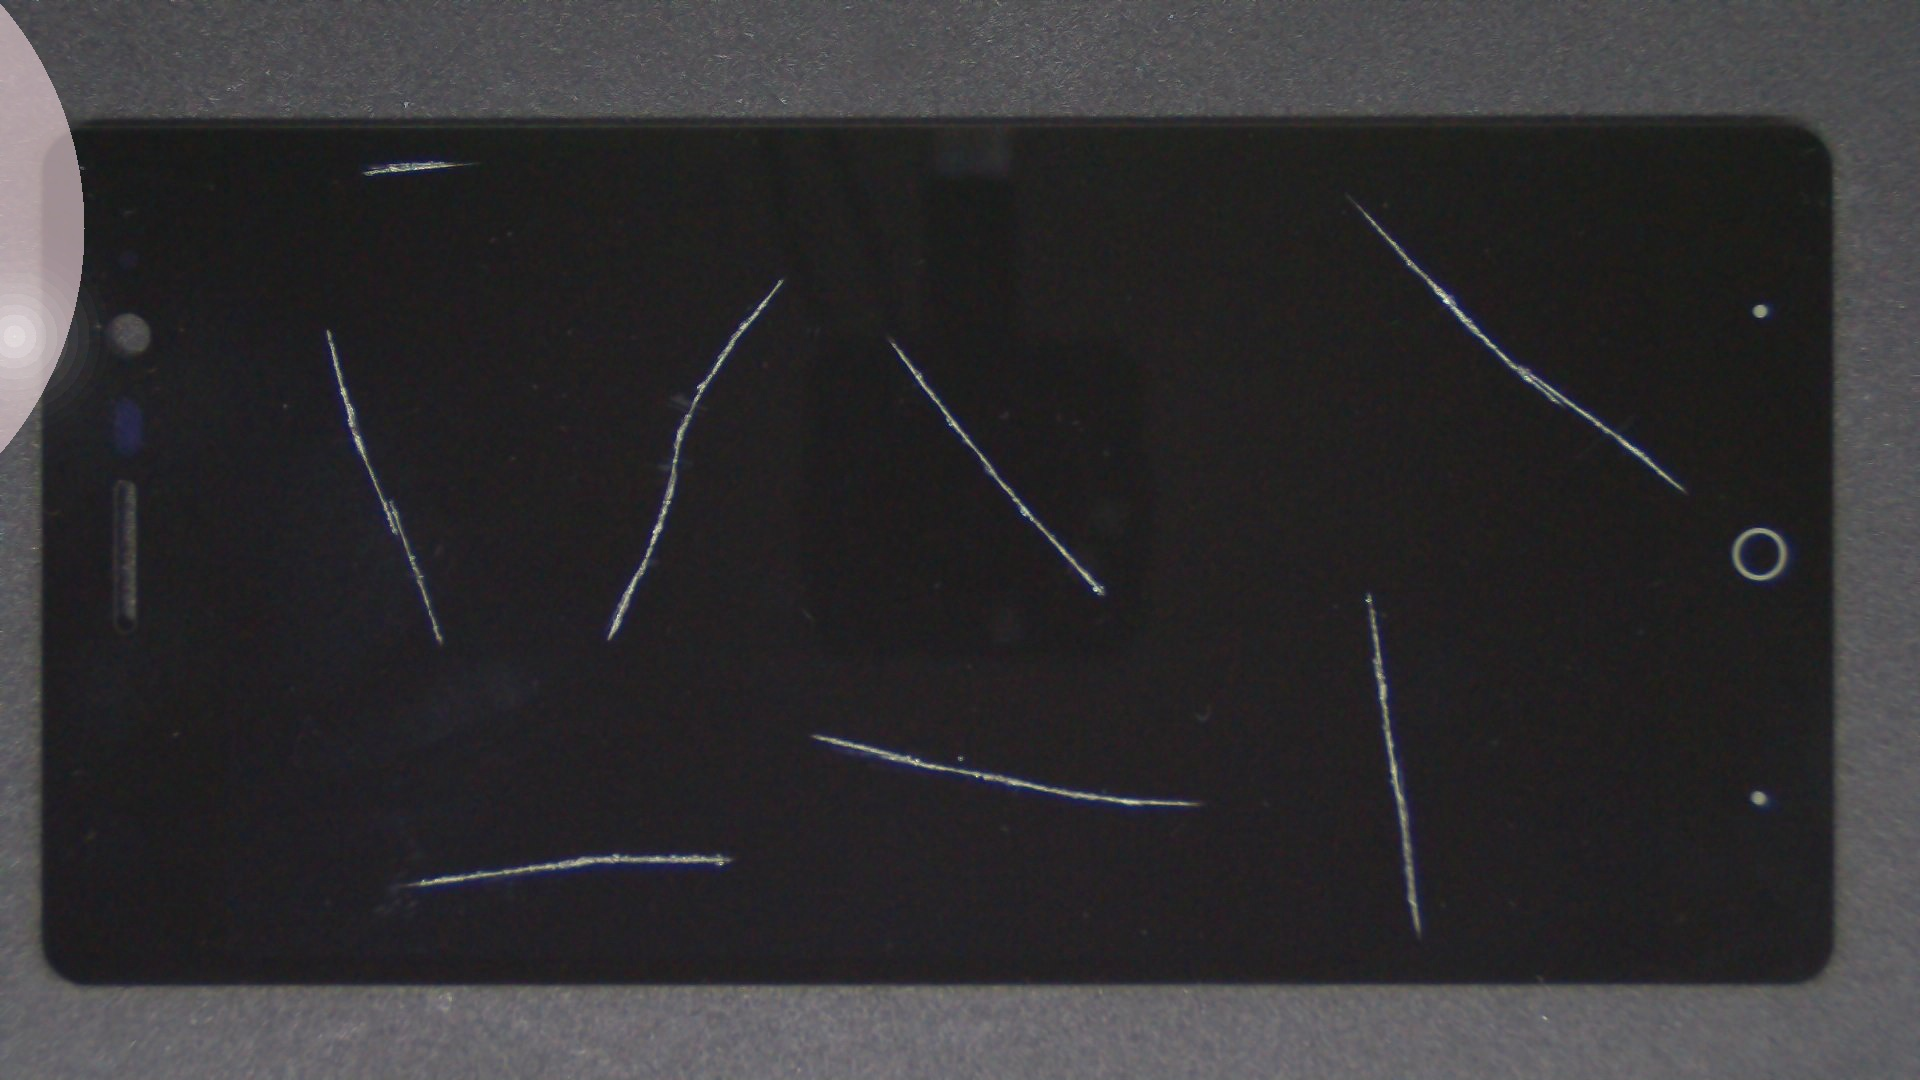oil: (683, 295, 1920, 887), (409, 365, 1225, 1080), (338, 426, 1009, 1080), (444, 170, 1332, 510), (675, 98, 1920, 295), (392, 138, 1172, 415), (164, 164, 489, 492), (214, 79, 637, 240)
